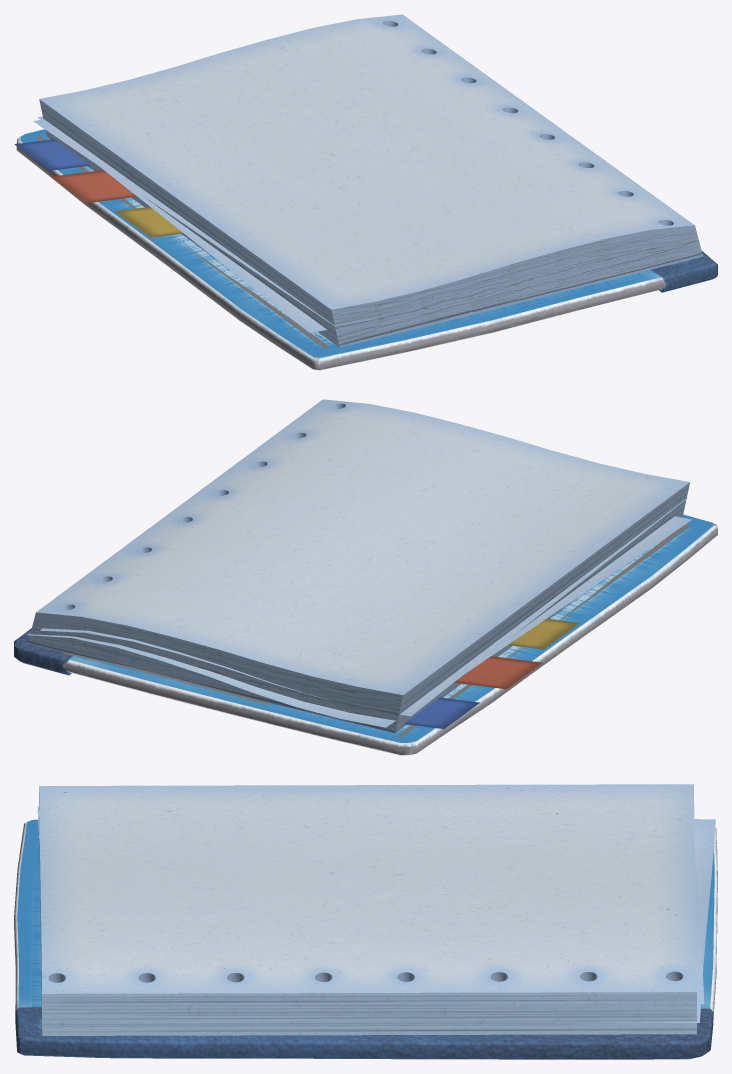
Rendered from RecipeBook_Back.fbx.
The picture shows the model from 3 angles, top to bottom: view 1: azimuth 30°, elevation 25°; view 2: azimuth 150°, elevation 25°; view 3: azimuth 270°, elevation 25°; orthographic projection. The views are drawn at different scales.
Parts seen in each view (by area): view 1: RecipeBook_Back; view 2: RecipeBook_Back; view 3: RecipeBook_Back.
Boxes of the visible parts, x1,y1,x2,y2 form: RecipeBook_Back: (14, 14, 717, 370); RecipeBook_Back: (14, 399, 717, 755); RecipeBook_Back: (14, 784, 717, 1059).
Size of the model in its own units: 3.84 by 0.4921 by 4.75.
7 materials, 5 textured.
